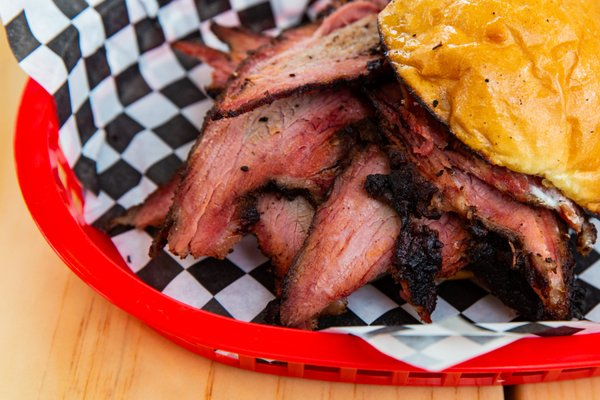soup: (157, 1, 598, 329)
